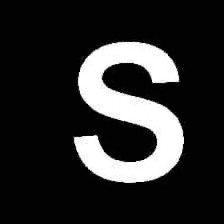LTR_S: (67, 34, 194, 192)
